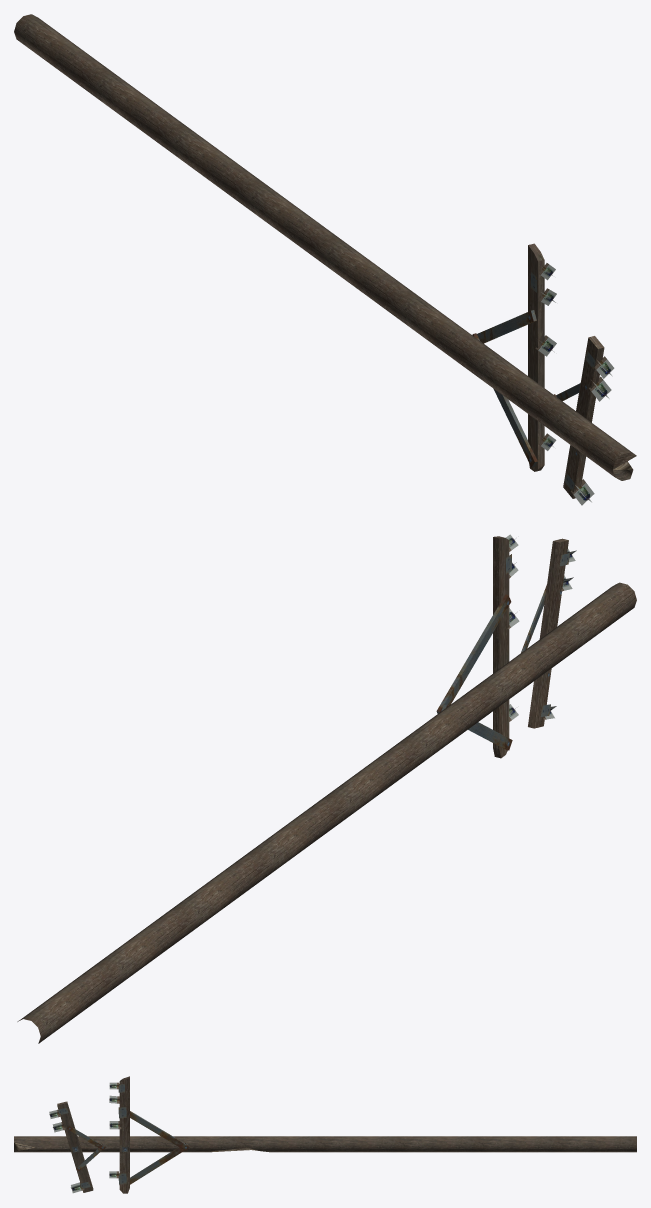
The model's file is powerpole_d01.glb.
The picture shows the model from 3 angles, top to bottom: view 1: azimuth 30°, elevation 25°; view 2: azimuth 150°, elevation 25°; view 3: azimuth 270°, elevation 25°; orthographic projection. The views are drawn at different scales.
Bounding box in the file's own units: 15.1 × 83.39 × 407.
1 material, 1 textured.
